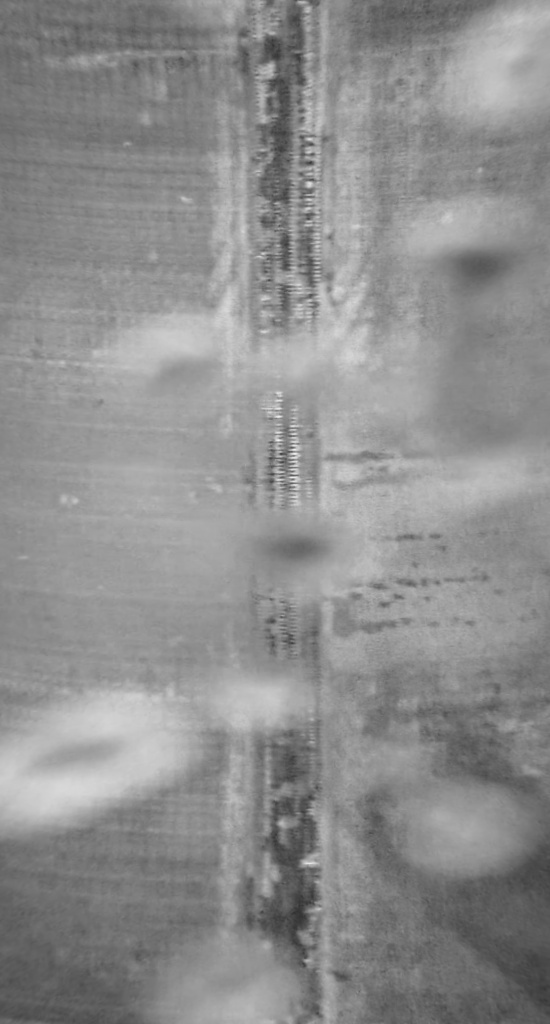splice: (231, 1, 328, 1023)
